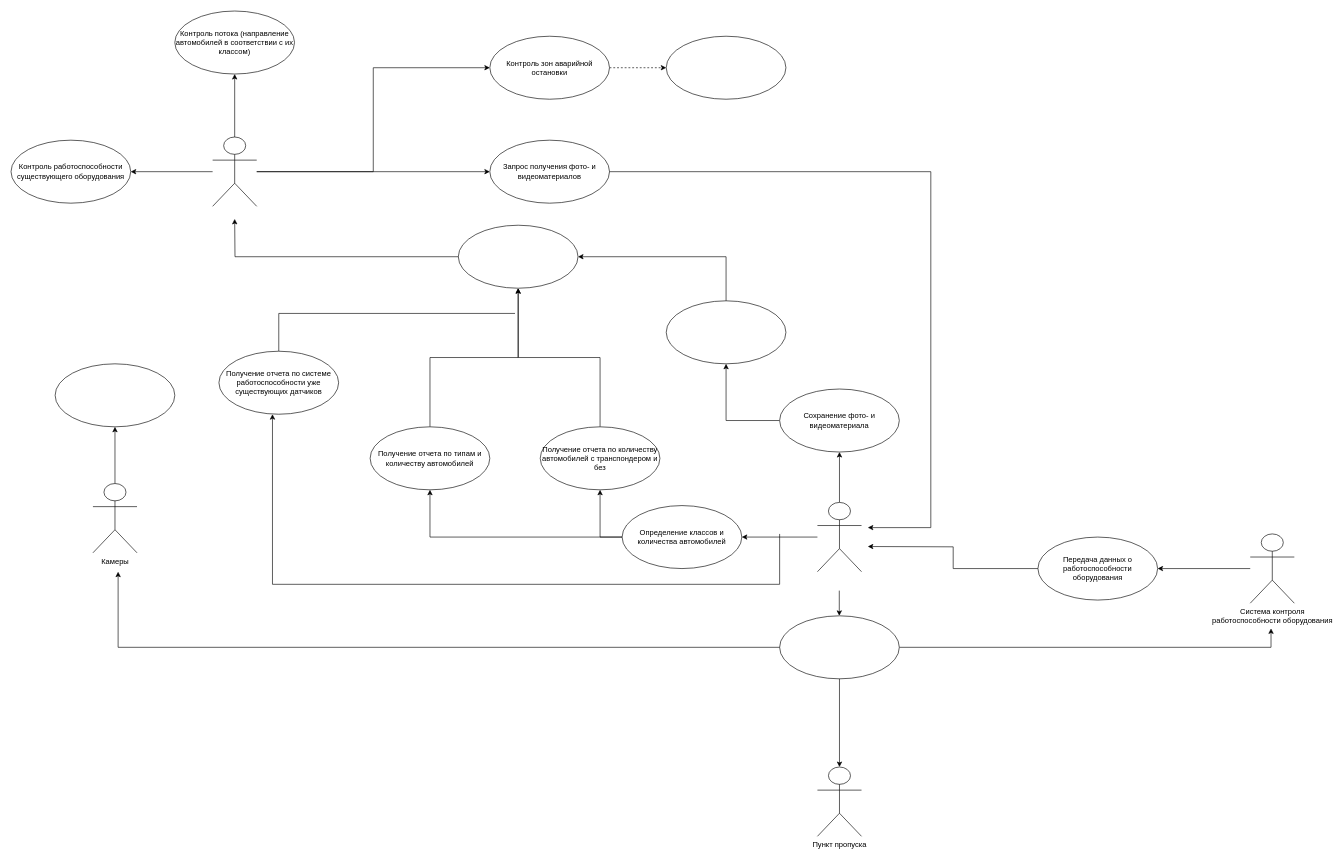
This 1343x861 diagram has some shape labels left out. The shapes that lost their labels are listed below. From the top down, each one's centre as x and y in pixels, then its label:
At (726,67): "Отправка запросов в аварийные службы".
At (234,171): "Оператор".
At (518,256): "Ответ на запрос".
At (726,332): "Получение отчета по загруженности дороги".
At (114,395): "Трансляция фото- и видеоматериалов".
At (839,537): "Программный модуль".
At (839,647): "Анализ содержания запроса".
